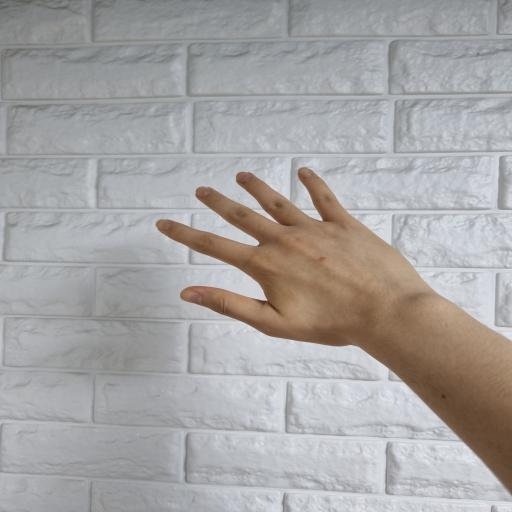Paper: (156, 167, 438, 347)
